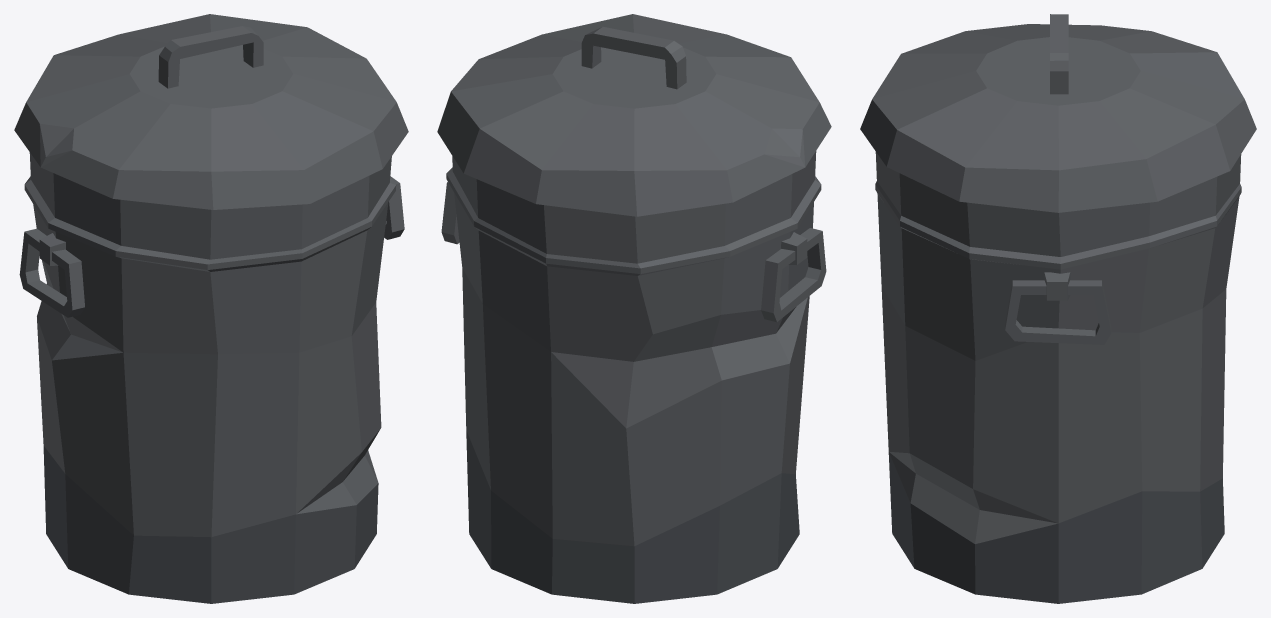
The model's file is TrashCan_01.fbx.
3 renders of one model, left to right at view 1: azimuth 30°, elevation 25°; view 2: azimuth 150°, elevation 25°; view 3: azimuth 270°, elevation 25°, orthographic.
Parts seen in each view (by area): view 1: TrashCan_01, TrashCan_01_Lid; view 2: TrashCan_01, TrashCan_01_Lid; view 3: TrashCan_01, TrashCan_01_Lid.
Boxes of the visible parts, x1,y1,x2,y2 form: TrashCan_01: (19,152,404,603); TrashCan_01_Lid: (14,14,408,209); TrashCan_01: (441,151,826,603); TrashCan_01_Lid: (437,14,831,216); TrashCan_01: (875,152,1241,603); TrashCan_01_Lid: (860,14,1256,212).
Size of the model in its own units: 0.7073 by 0.9871 by 0.7074.
